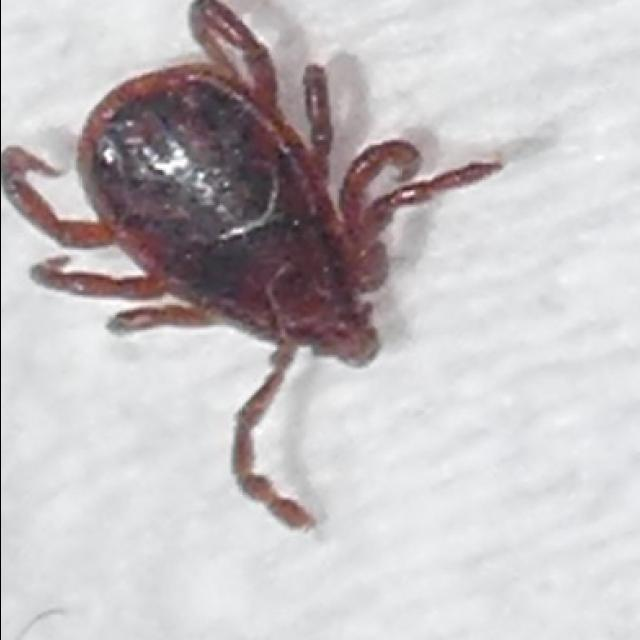Rhipicephalus Sanguineus-M: (0, 0, 503, 532)
